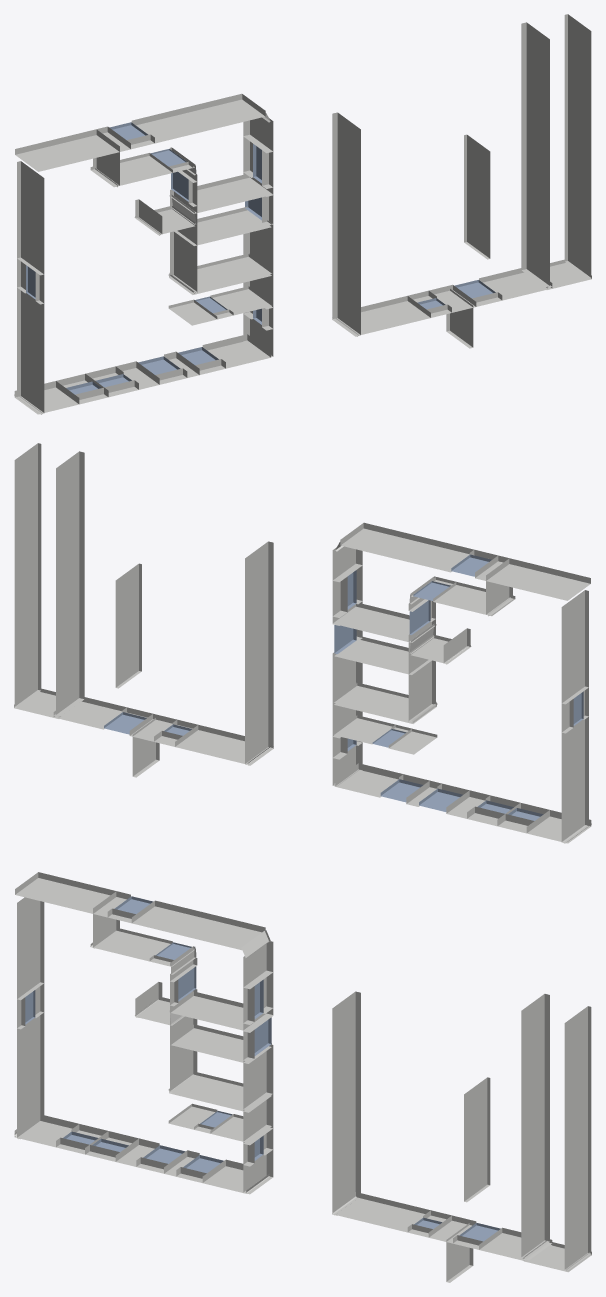
Rendered from plan2scene_vector_house.glb.
The picture shows the model from 3 angles, top to bottom: view 1: azimuth 30°, elevation 25°; view 2: azimuth 150°, elevation 25°; view 3: azimuth 330°, elevation 25°; orthographic projection.
Parts seen in each view (by area): view 1: walls, doors_windows; view 2: walls, doors_windows; view 3: walls, doors_windows.
Boxes of the visible parts, bbox=[...] form: walls: bbox=[14, 14, 591, 414]; doors_windows: bbox=[26, 122, 495, 394]; walls: bbox=[14, 443, 591, 843]; doors_windows: bbox=[104, 554, 583, 820]; walls: bbox=[14, 872, 591, 1282]; doors_windows: bbox=[25, 896, 500, 1241].
Size of the model in its own units: 3567 by 1780 by 260.
